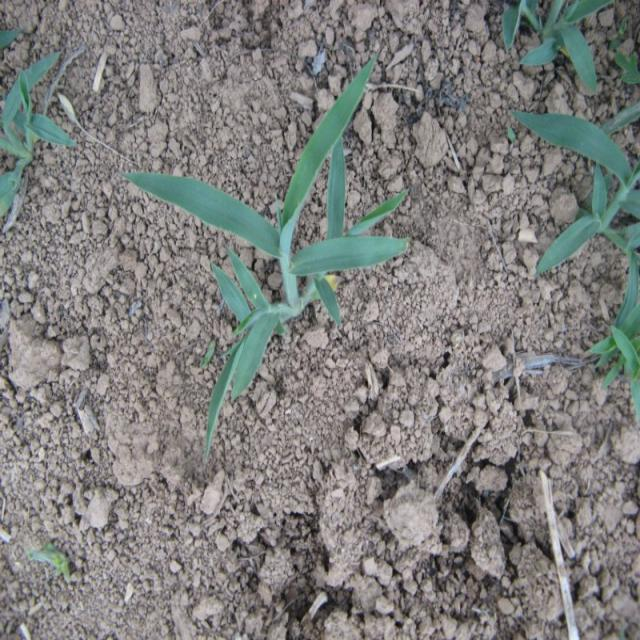bg: (122, 58, 409, 452)
